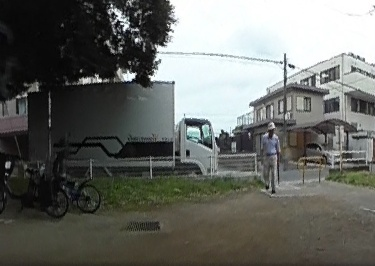person: (260, 117, 281, 190)
